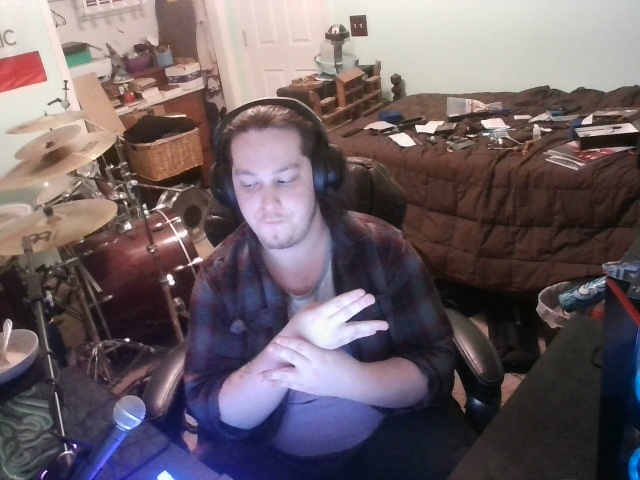world: (248, 282, 402, 410)
